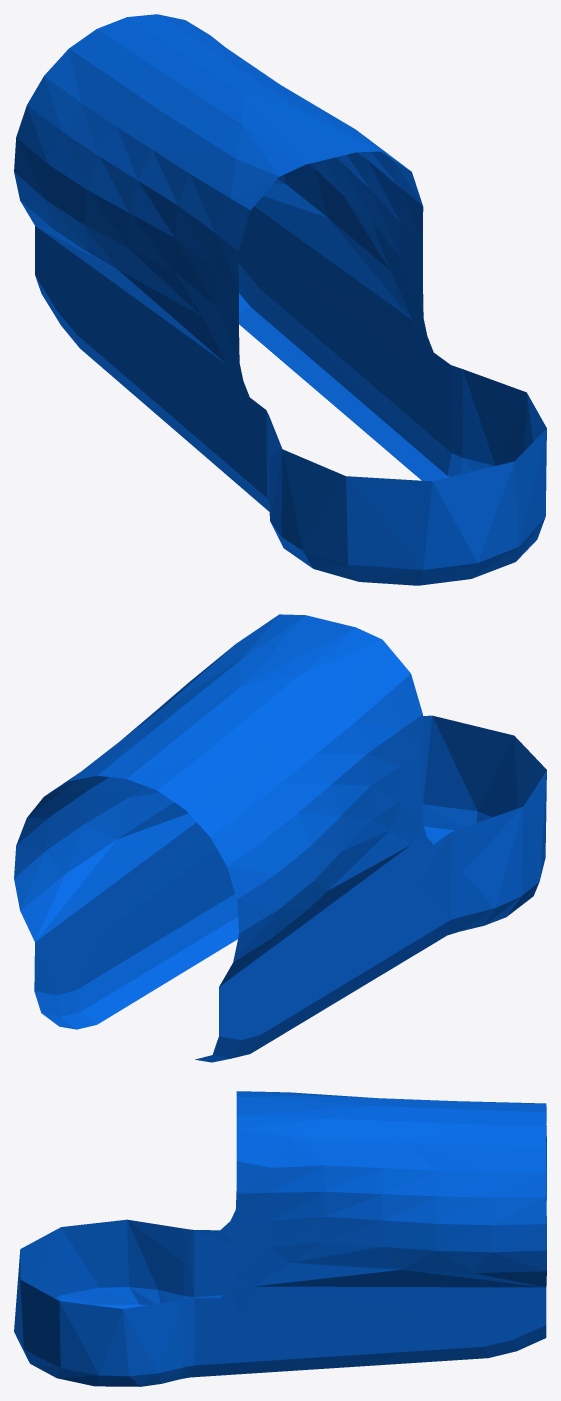
File: RARM_LINK3_mesh.dae
3 renders of one model, top to bottom at view 1: azimuth 30°, elevation 25°; view 2: azimuth 150°, elevation 25°; view 3: azimuth 270°, elevation 25°, orthographic. The views are drawn at different scales.
Parts seen in each view (by area): view 1: RARM_LINK3; view 2: RARM_LINK3; view 3: RARM_LINK3.
Part boxes in pixels (x1,y1,x2,y2): RARM_LINK3: [14, 14, 546, 585]; RARM_LINK3: [14, 614, 546, 1062]; RARM_LINK3: [14, 1091, 546, 1386].
Size of the model in its own units: 0.0769 by 0.0985 by 0.1937.
